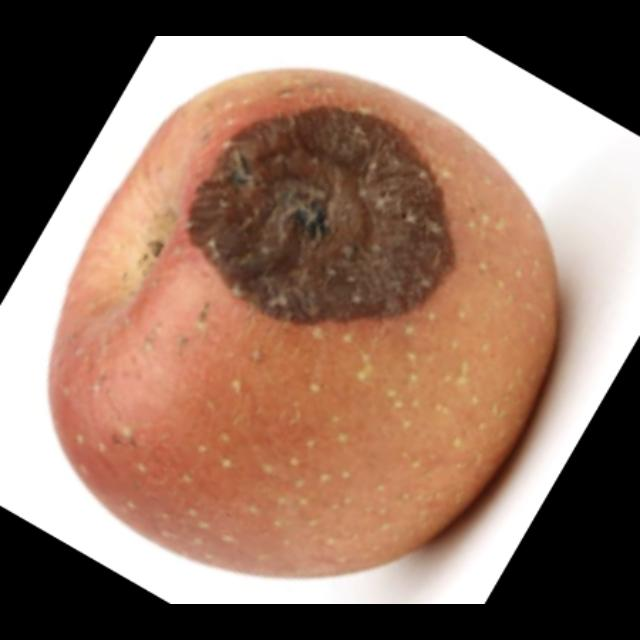Apel Tidak Segar: (44, 64, 564, 586)
